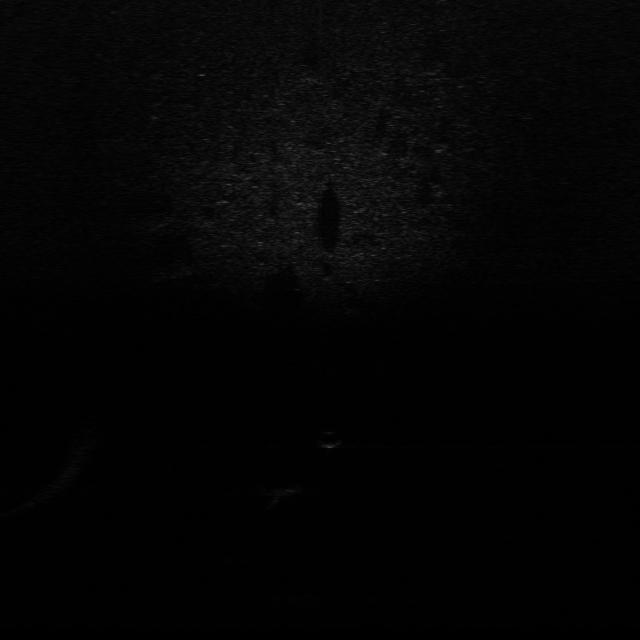ball: (308, 429, 344, 449)
square cage: (260, 482, 306, 502)
